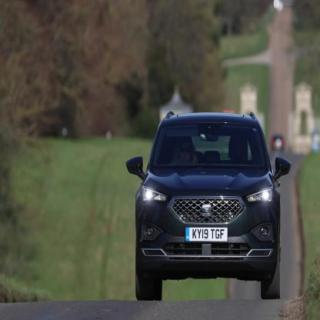Normal_vehicle: (126, 112, 290, 299)
